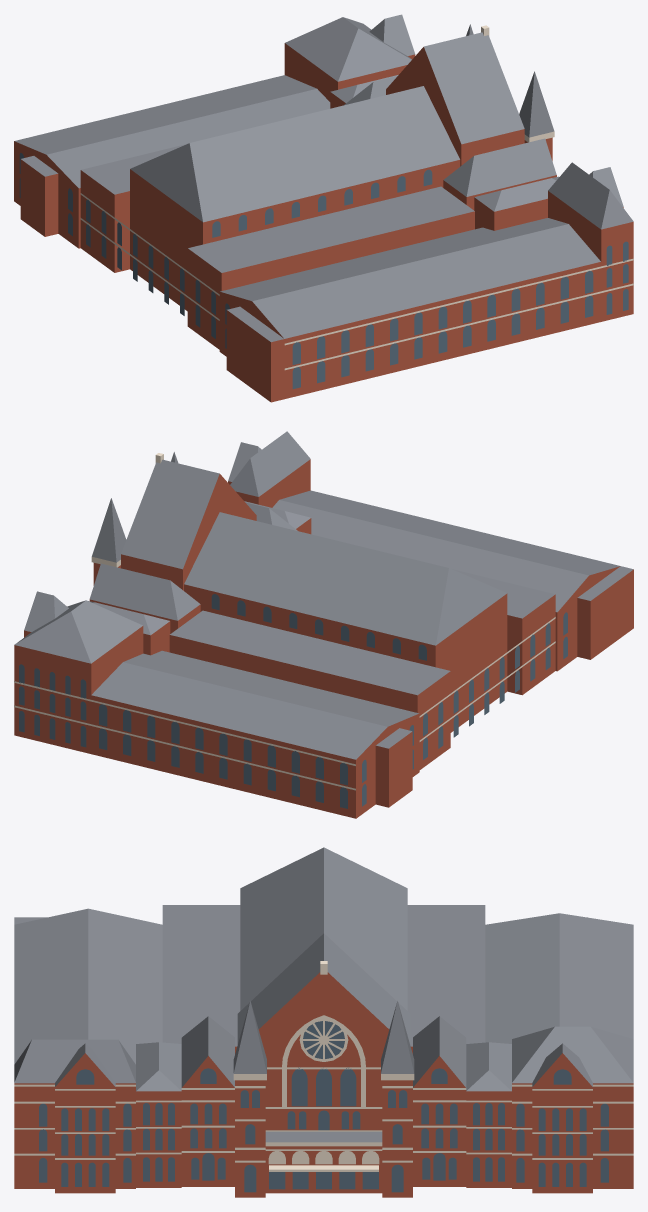
File: cin-music-hall.glb
The picture shows the model from 3 angles, top to bottom: view 1: azimuth 30°, elevation 25°; view 2: azimuth 150°, elevation 25°; view 3: azimuth 270°, elevation 25°; orthographic projection. The views are drawn at different scales.
Visible parts, largest first — view 1: Cincinnati Music Hall; view 2: Cincinnati Music Hall; view 3: Cincinnati Music Hall.
Boxes of the visible parts, x1=… form: Cincinnati Music Hall: x1=14, y1=14, x2=633, y2=402; Cincinnati Music Hall: x1=14, y1=431, x2=633, y2=818; Cincinnati Music Hall: x1=14, y1=847, x2=633, y2=1197.
Size of the model in its own units: 98.8 by 47.6 by 122.
